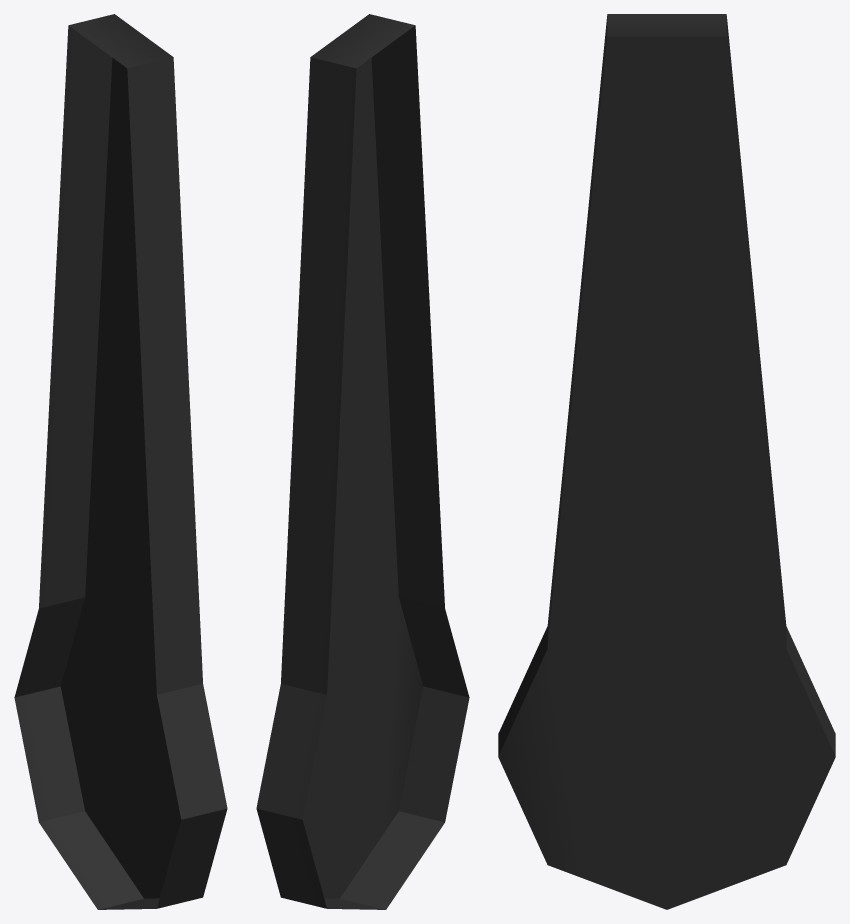
File: crane_console_meter1.obj
3 views of the same model, side by side, from view 1: azimuth 30°, elevation 25°; view 2: azimuth 150°, elevation 25°; view 3: azimuth 270°, elevation 25° (orthographic).
Visible parts, largest first — view 1: Meter1; view 2: Meter1; view 3: Meter1.
Part boxes in pixels (box(x1,y1,x2,y2)): Meter1: box(14, 14, 227, 909); Meter1: box(256, 14, 469, 909); Meter1: box(498, 14, 835, 909).
Bounding box in the file's own units: 0.01 × 0.1783 × 0.0625.
